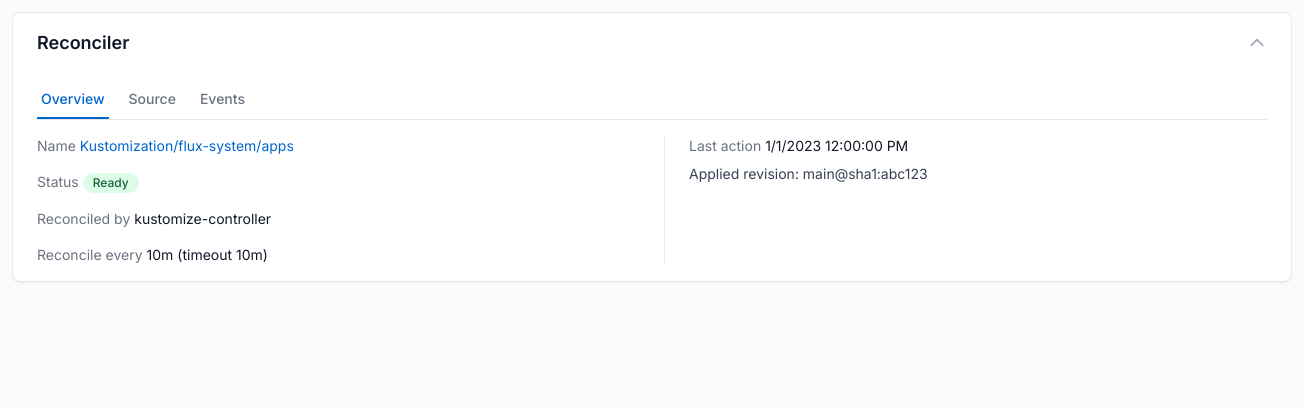
Test: WorkloadReconcilerPanel component › Source tab › should display origin URL when present
The width and height of the screenshot is (1304, 407).
Click the button "Source" at (152, 100), box 124,81 -> 180,119
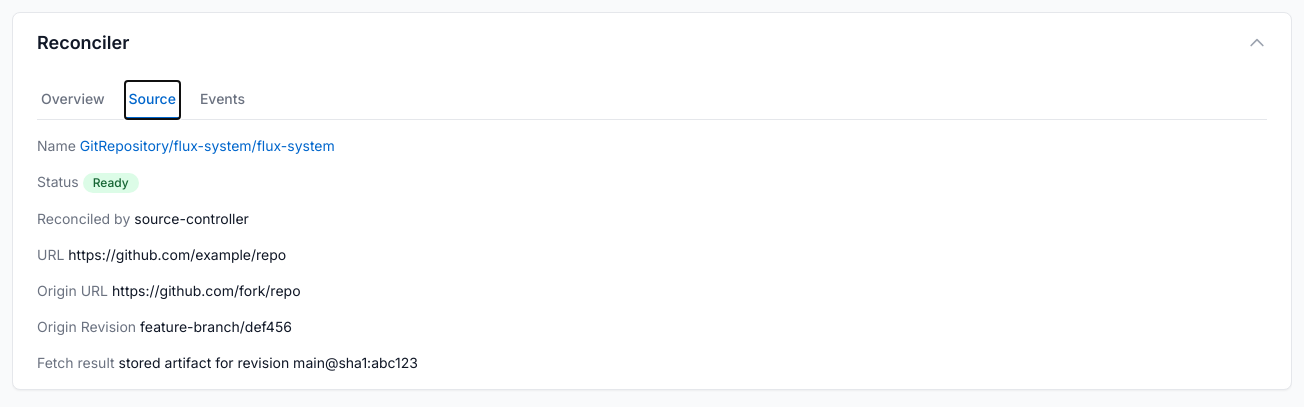
expect the text "https://github.com/fork/repo" is shown: met, box 112,282 -> 300,299
expect the text "feature-branch/def456" is shown: met, box 140,318 -> 292,335
